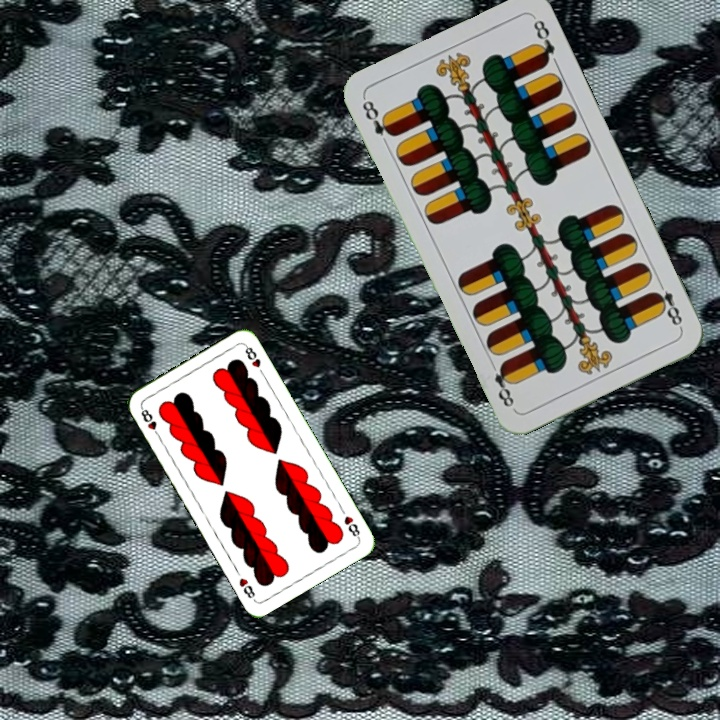E8: (648, 276, 685, 332), (358, 95, 398, 140)
H8: (136, 403, 163, 440), (340, 512, 362, 541)
